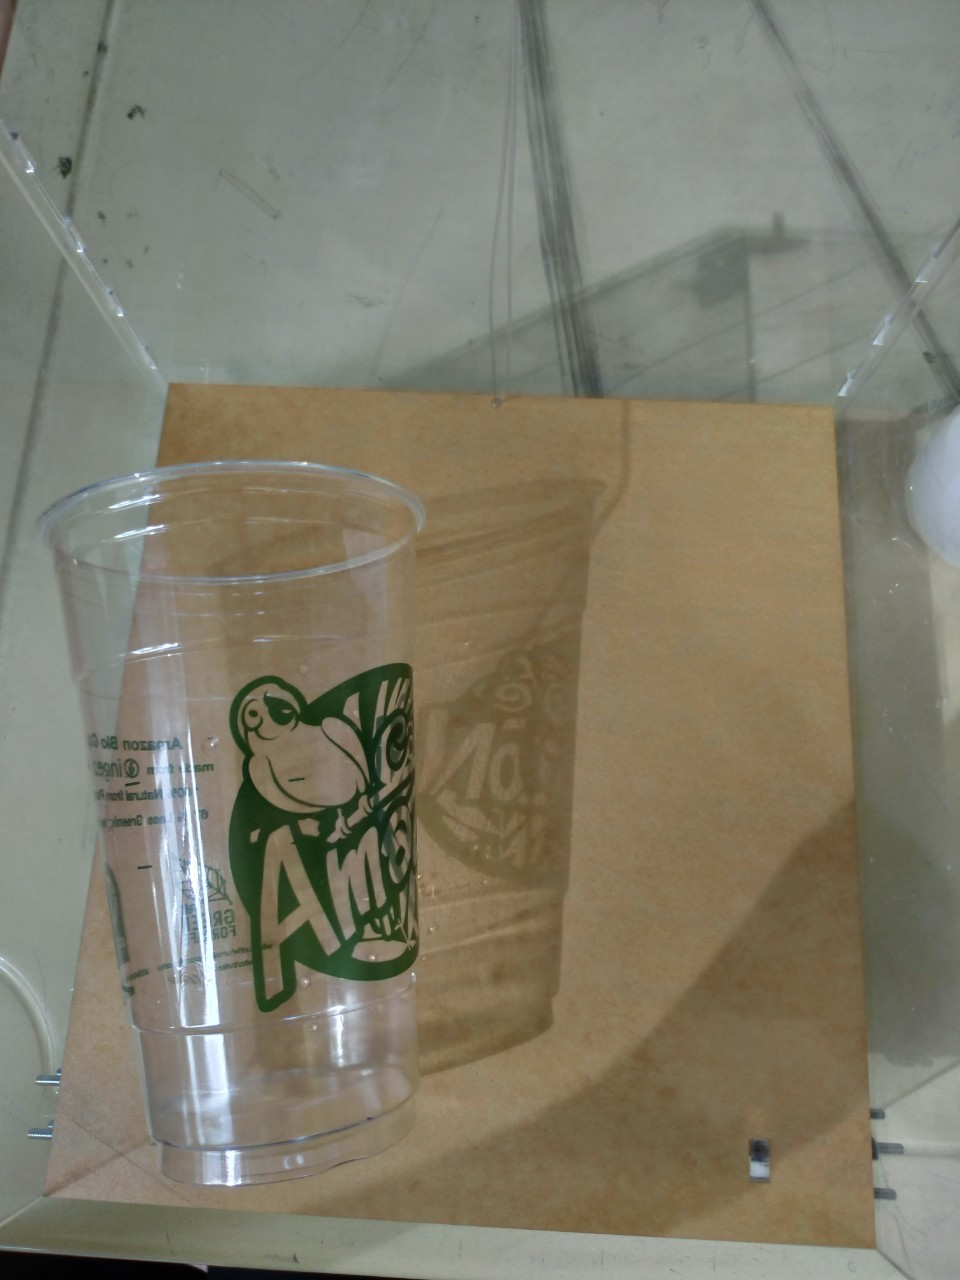PlasticCup: (28, 457, 422, 1186)
